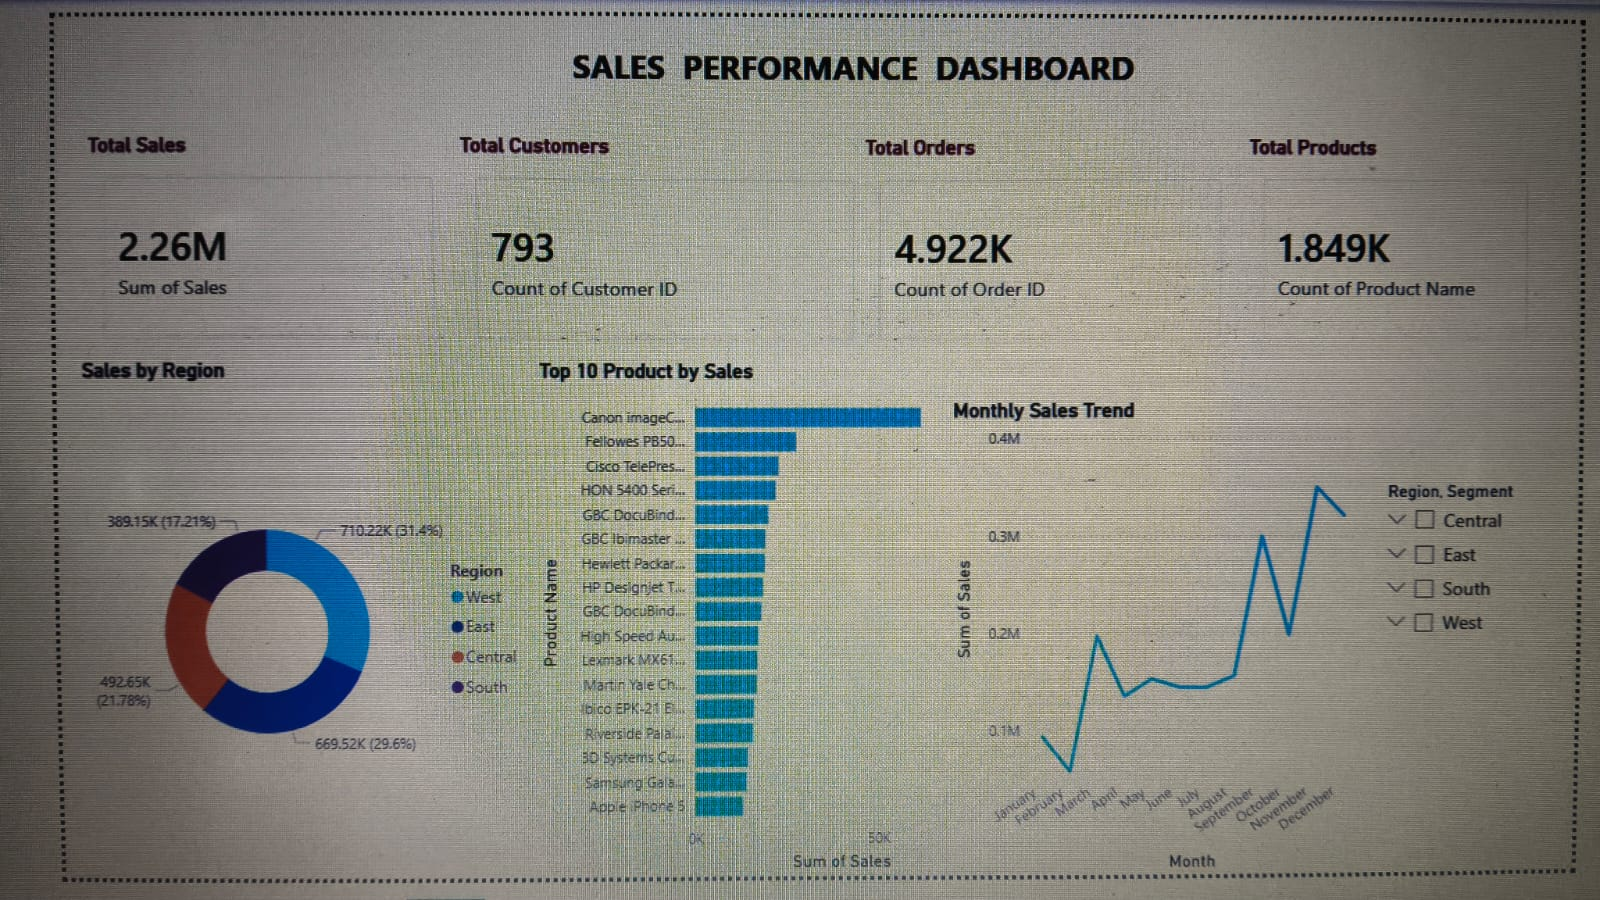

This screenshot's page, from the dashboard's own definition file:
{"tool":"powerbi","page":{"name":"Page 3","canvas":[1280,720],"ordinal":2},"visuals":[{"type":"donutChart","title":"Sales by Region","fields":{"Category":["train.Region"],"Y":["Sum(train.Sales)"]},"box":[16.1,283.9,378.6,435.7],"z":4},{"type":"barChart","title":"Top 10 Product by Sales","fields":{"Category":["train.Product Name"],"Y":["Sum(train.Sales)"]},"box":[394.6,283.9,405.4,435.7],"z":5},{"type":"lineChart","title":" Monthly Sales Trend","fields":{"Category":["train.Order Date.Variation.Date Hierarchy.Month"],"Y":["Sum(train.Sales)"]},"box":[742.9,316.1,348.2,403.6],"z":6},{"type":"slicer","fields":{"Values":["train.Region","train.Segment"]},"box":[1101.8,382.1,148.2,300],"z":7},{"type":"cardVisual","title":"Total Sales","fields":{"Data":["Sum(train.Sales)"]},"box":[23.2,96.4,308.9,187.5],"z":8},{"type":"cardVisual","title":"Total Customers","fields":{"Data":["Count(train.Customer ID)"]},"box":[332.1,96.4,350,187.5],"z":9},{"type":"cardVisual","title":"Total Orders","fields":{"Data":["Count(train.Order ID)"]},"box":[667.9,96.4,321.4,187.5],"z":10},{"type":"cardVisual","title":"Total Products","fields":{"Data":["Count(train.Product Name)"]},"box":[989.3,96.4,260.7,187.5],"z":11},{"type":"textbox","box":[425,16.1,614.3,80.4],"z":12}]}

Visuals, with their boxes in screenshot pixels (x1, y1, x2, y2), scaled from the page's 1280x720 canvas onto the 1600x900 screenshot:
"Sales by Region" donutChart: locate(20, 355, 493, 899)
"Top 10 Product by Sales" barChart: locate(493, 355, 1000, 899)
" Monthly Sales Trend" lineChart: locate(929, 395, 1364, 899)
slicer - train.Region x train.Segment: locate(1377, 478, 1562, 853)
"Total Sales" cardVisual: locate(29, 120, 415, 355)
"Total Customers" cardVisual: locate(415, 120, 853, 355)
"Total Orders" cardVisual: locate(835, 120, 1237, 355)
"Total Products" cardVisual: locate(1237, 120, 1562, 355)
textbox: locate(531, 20, 1299, 121)
